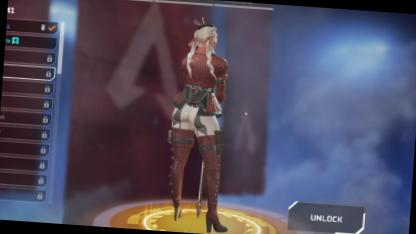Target: (163, 11, 237, 194)
